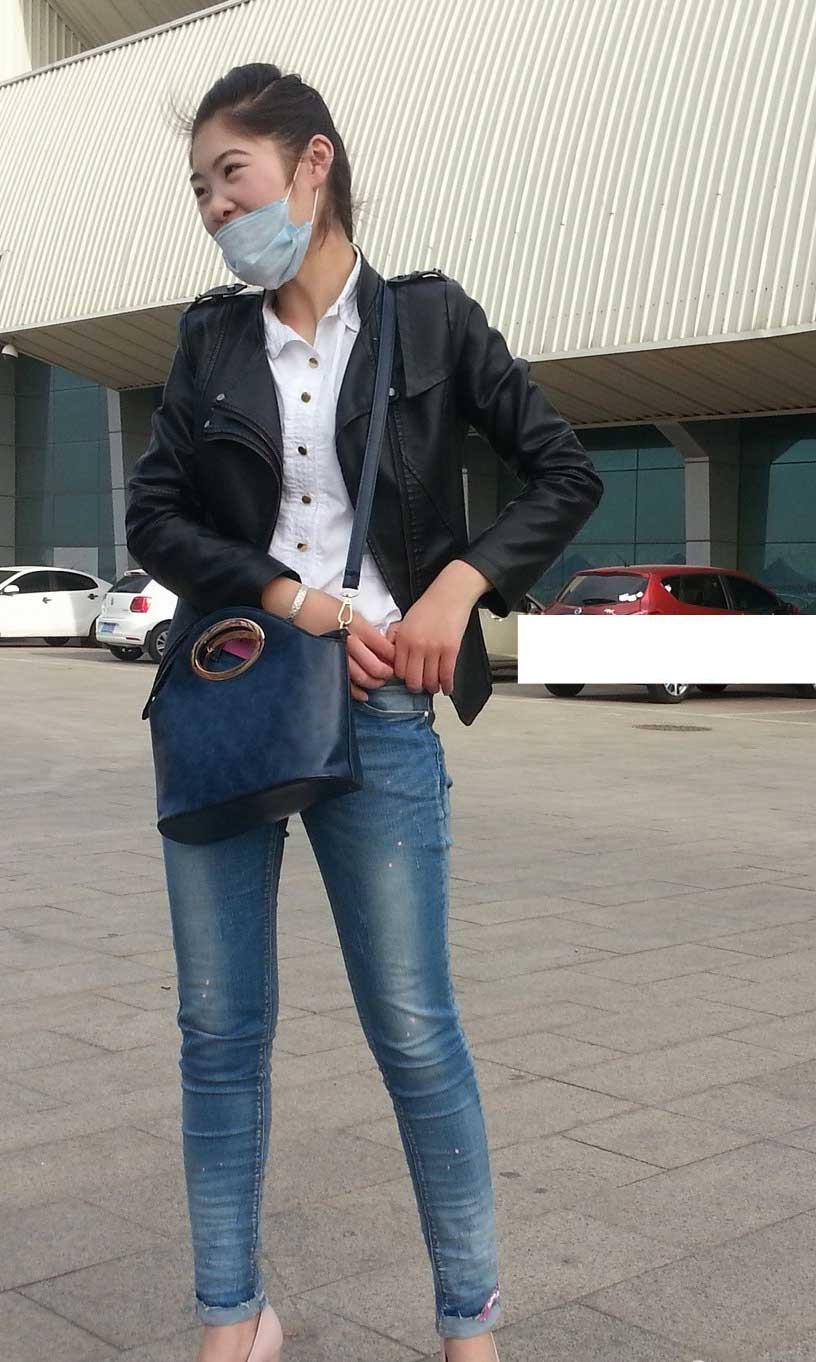WRONG: (199, 143, 323, 287)
